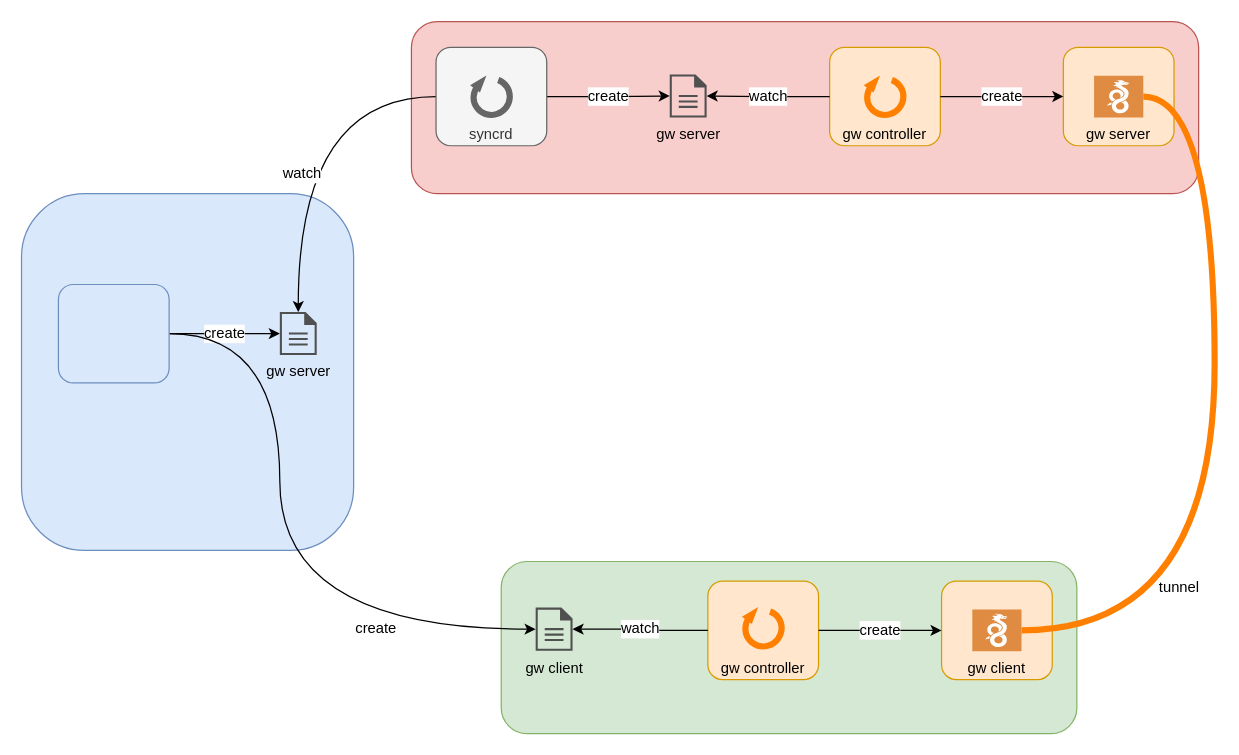
Some shapes in this 1239 by 755 pixel diagram are drawn without their labels. Here are the shapes that lost their labels. From the top down, the box of each, then its label:
(410, 20, 1199, 194): k3s in classic server
(57, 283, 169, 383): cloud api
(20, 192, 354, 550): metal control plane
(500, 560, 1077, 734): shoot cluster
